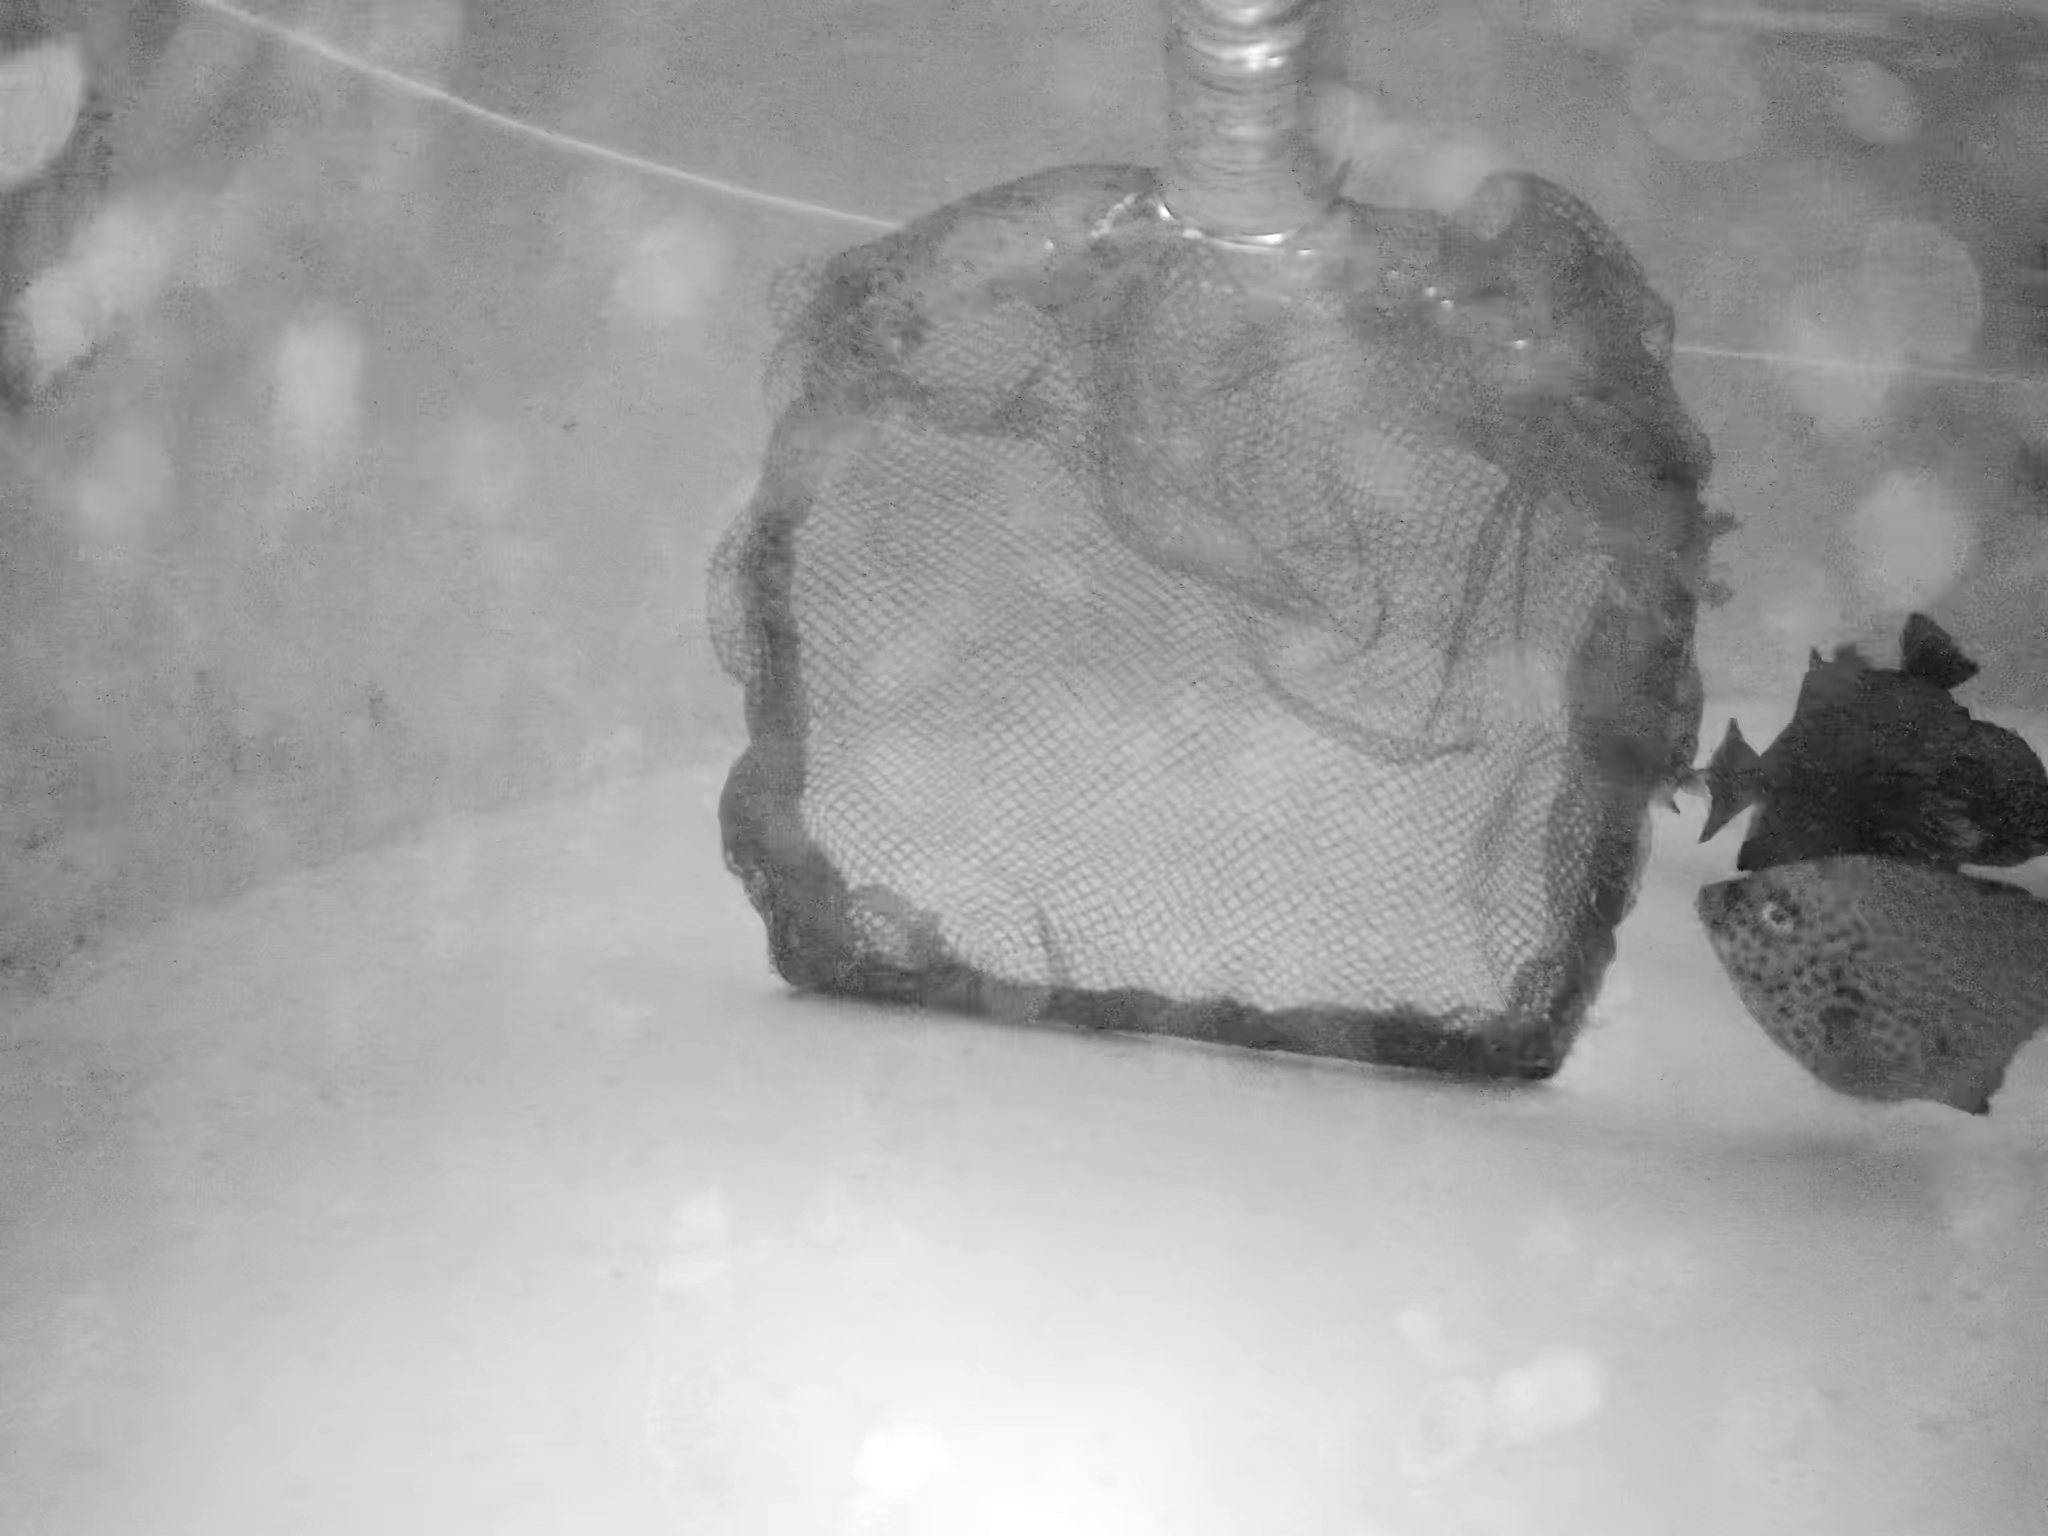fish: (1695, 837, 2048, 1173), (1663, 658, 2048, 883), (1771, 620, 1980, 881)
